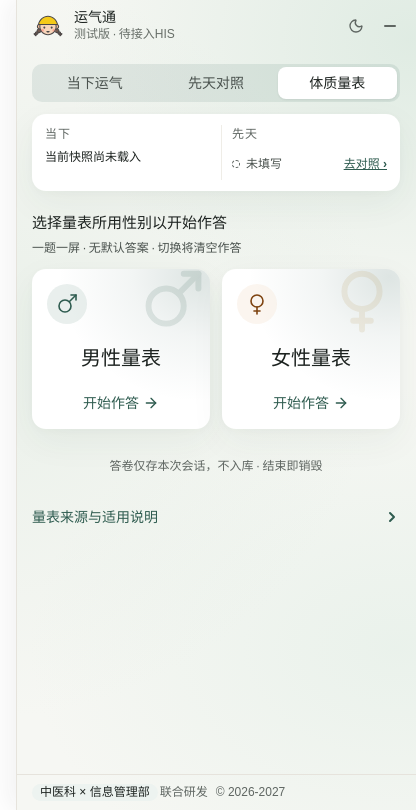
Test: ConstitutionForm › keeps one accessible question and progress when immediately reopening after destruction in off
This screenshot has width=416, height=810.
Click the radio button labelled "男性量表".
click(121, 349)  # box [32,269,210,429]
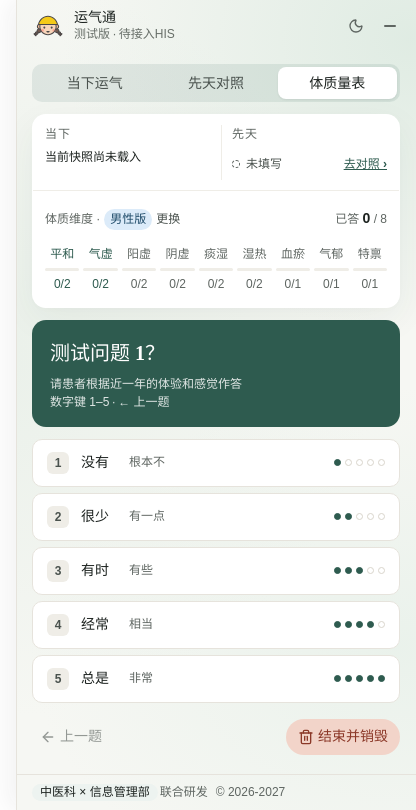
Press 1 in the heading "测试问题 1？", box [50,342,165,364]
Wait 240 ms
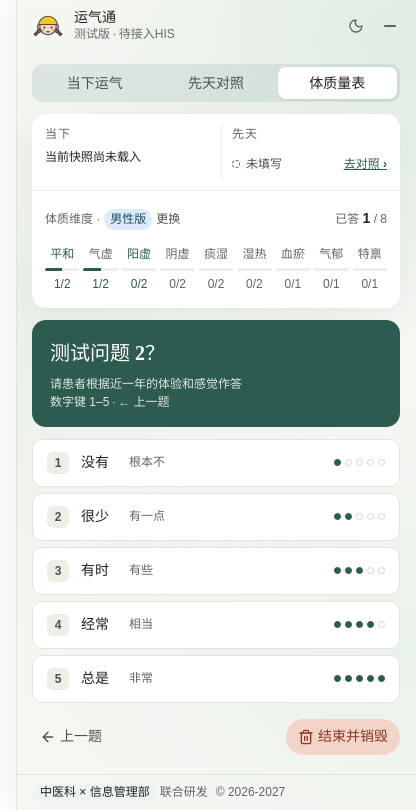
Click the button "结束并销毁".
click(343, 737)  # box [286,719,400,755]
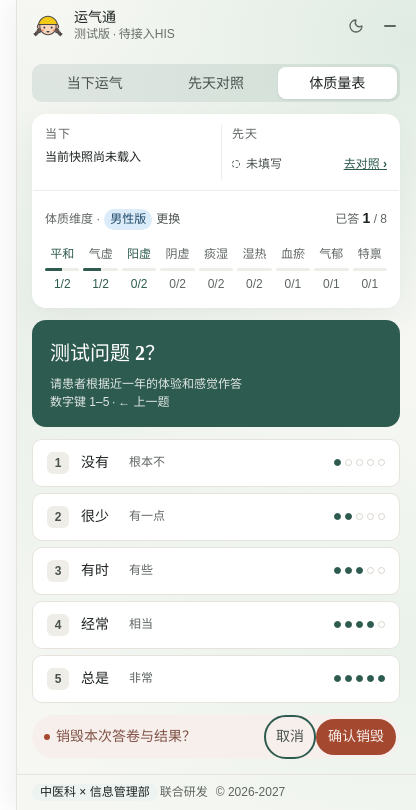
Click the button "确认销毁".
click(356, 737)  # box [316,719,396,755]
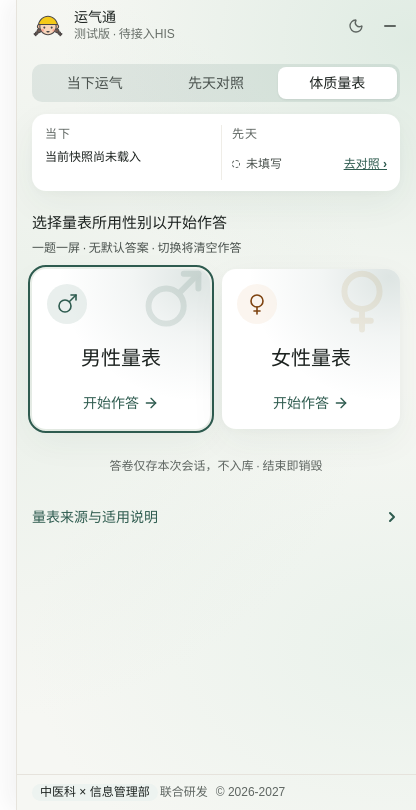
Click the radio button labelled "男性量表".
click(121, 349)  # box [32,269,210,429]
Wait 120 ms
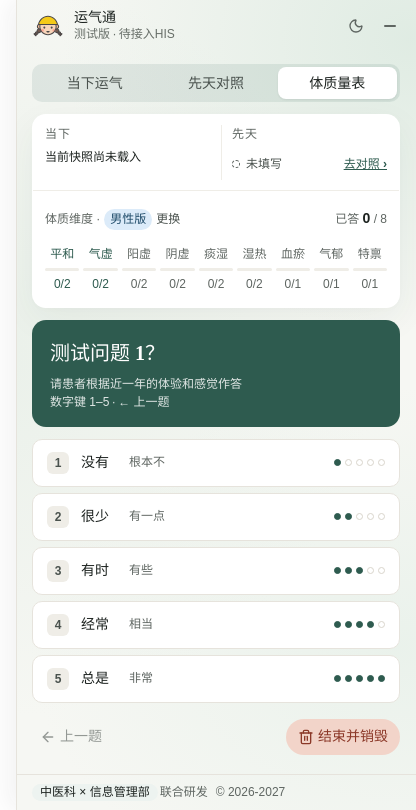
Expected: the number of headings "测试问题 1？" is 1, [50,342,165,364]
Expected: the number of pictures "已答 0 / 8" is 1, [335,207,387,229]
Expected: the picture named "当前第 1 题" reads "已答 0 / 8", [335,207,387,229]
